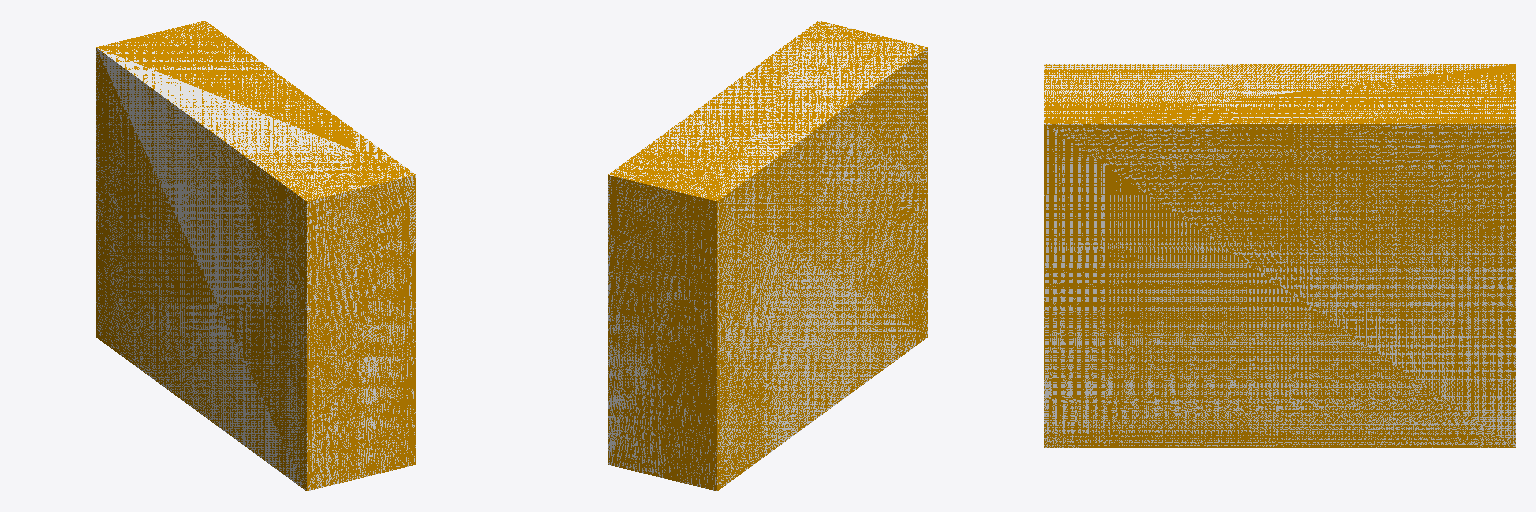
robot.urdf — my_object:
<?xml version="1.0" ?> 
<robot name="my_object" static="true">
  <link name="base_link">
  <inertial>
    <mass value="0.047" />
    <origin xyz="0 0 0.0" />
    <inertia ixx="1.0" ixy="0.0" ixz="0.0" iyy="1.0" iyz="0.0" izz="1.0"/>
  </inertial>
  <visual>
   <origin xyz="0 0 0.0" rpy="0 0 0" />
   <geometry>
     <mesh filename="package://cob_gazebo_objects/Media/models/medication_mucoangin.dae"/>
   </geometry>
  </visual>
  <collision>
   <origin xyz="0 0 0" rpy="0 0 0" />
   <geometry>
     <box size="0.032 0.108 0.082" />
   </geometry>
  </collision>     
  </link>

<gazebo>
	<static>true</static>
</gazebo>
</robot>

--- Render facts (derived) ---
Views: 3 orthographic renders of the robot side by side, from view 1: azimuth 30°, elevation 25°; view 2: azimuth 150°, elevation 25°; view 3: azimuth 270°, elevation 25°.
Model my_object with 1 links and 0 joints (none), rooted at base_link, posed every joint at zero.
Visible links, largest first — view 1: base_link; view 2: base_link; view 3: base_link.
Link boxes in pixels (<box>): base_link: <box>96,21,415,490</box>; base_link: <box>608,21,927,490</box>; base_link: <box>1044,64,1515,447</box>.
Size in the robot's own frame: 0.0008 by 0.0027 by 0.0021 metres.
1 mesh visuals loaded from 1 distinct referenced files (1 Collada DAE).